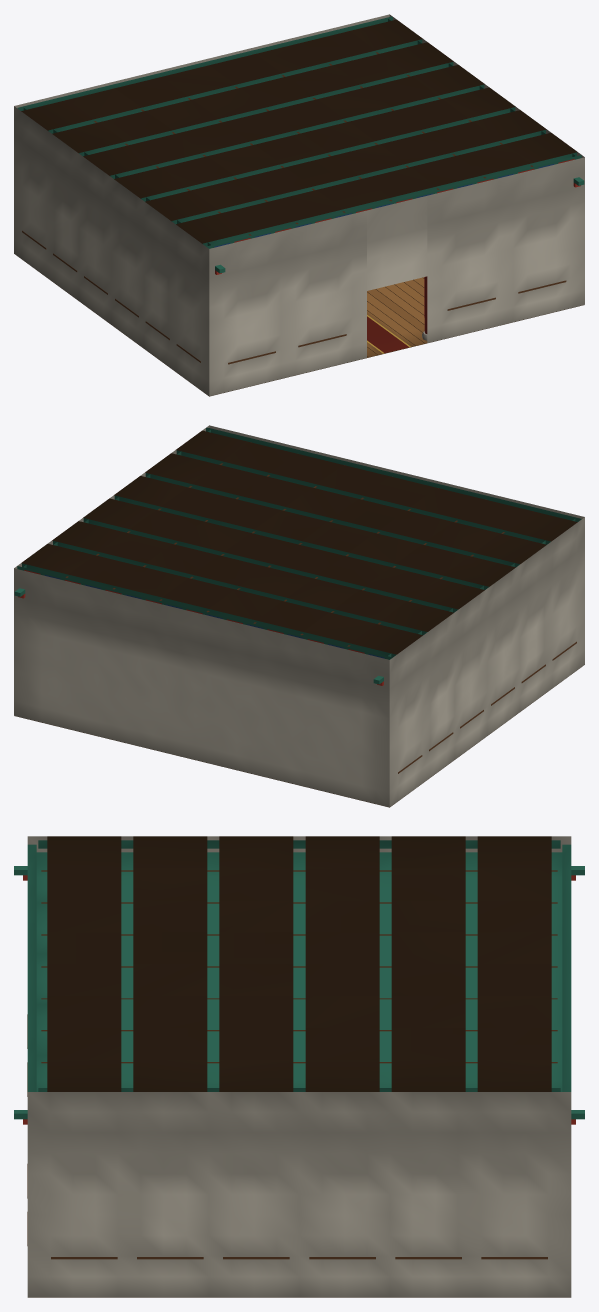
The model's file is dharma.glb.
3 renders of one model, top to bottom at view 1: azimuth 30°, elevation 25°; view 2: azimuth 150°, elevation 25°; view 3: azimuth 270°, elevation 25°, orthographic. The views are drawn at different scales.
Visible parts, largest first — view 1: structure, ceiling, floor; view 2: structure, ceiling; view 3: ceiling, structure.
Boxes of the visible parts, box(x1,y1,x2,y2) form: structure: box(14, 14, 584, 396); ceiling: box(18, 16, 581, 248); floor: box(16, 255, 583, 396); structure: box(14, 425, 584, 807); ceiling: box(17, 427, 580, 659); ceiling: box(36, 836, 562, 1091); structure: box(14, 836, 584, 1297).
Size of the model in its own units: 20.02 by 7.51 by 18.9.
